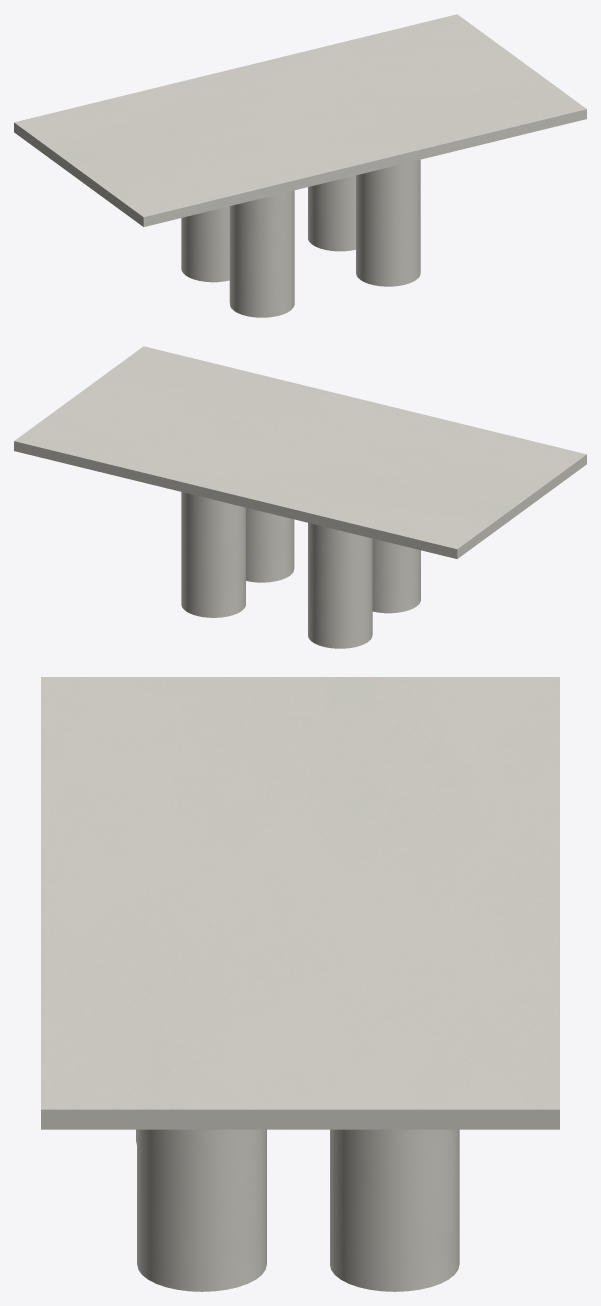
Rendered from pale_recta_standard_grove.glb.
3 renders of one model, top to bottom at view 1: azimuth 30°, elevation 25°; view 2: azimuth 150°, elevation 25°; view 3: azimuth 270°, elevation 25°, orthographic. The views are drawn at different scales.
Visible parts, largest first — view 1: standard_recta, grove; view 2: standard_recta, grove; view 3: standard_recta, grove.
Part boxes in pixels (box(x1,y1,x2,y2)): standard_recta: box(14, 14, 586, 226); grove: box(181, 159, 420, 317); standard_recta: box(14, 346, 586, 558); grove: box(181, 492, 420, 648); standard_recta: box(41, 677, 559, 1129); grove: box(136, 1129, 459, 1291).
Bounding box in the file's own units: 7.5 × 2.5 × 3.8.
1 material, 1 textured.
